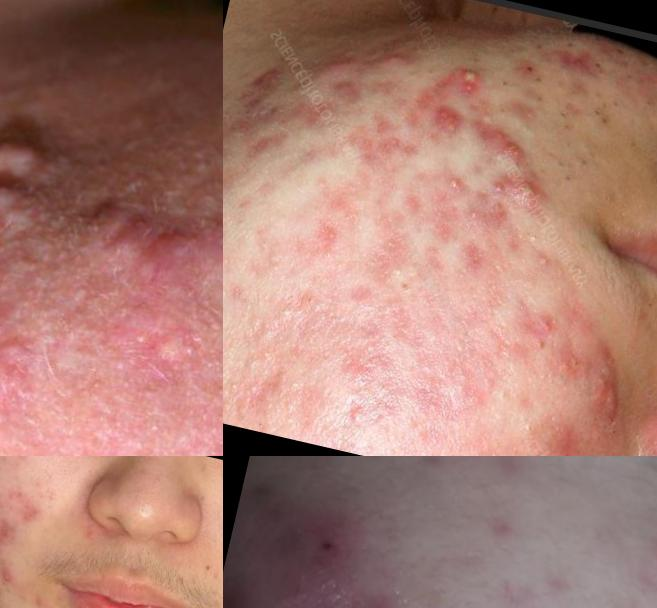blackhead: (589, 95, 623, 135), (532, 149, 570, 183), (551, 103, 588, 137), (520, 215, 552, 245), (571, 145, 600, 176), (529, 86, 555, 109), (619, 65, 644, 87), (589, 56, 610, 81), (558, 171, 581, 192), (494, 104, 515, 124), (530, 38, 549, 58), (561, 137, 580, 157), (497, 77, 516, 95), (563, 38, 582, 55), (530, 70, 547, 89)
cystic: (248, 501, 374, 608), (108, 226, 155, 272), (81, 186, 121, 229)
keloid: (1, 103, 58, 193), (1, 166, 47, 240), (311, 37, 372, 86), (369, 42, 436, 80)
papular: (528, 303, 572, 341), (1, 557, 26, 594), (1, 511, 20, 549)
purulent: (449, 61, 494, 100), (458, 204, 490, 231), (446, 172, 471, 197)
sebo-crystan-conglo: (575, 329, 651, 429), (481, 173, 548, 213), (479, 122, 533, 170), (431, 103, 467, 135)
whitehead: (249, 336, 290, 378), (224, 372, 266, 412), (515, 408, 546, 443), (648, 213, 657, 245)
